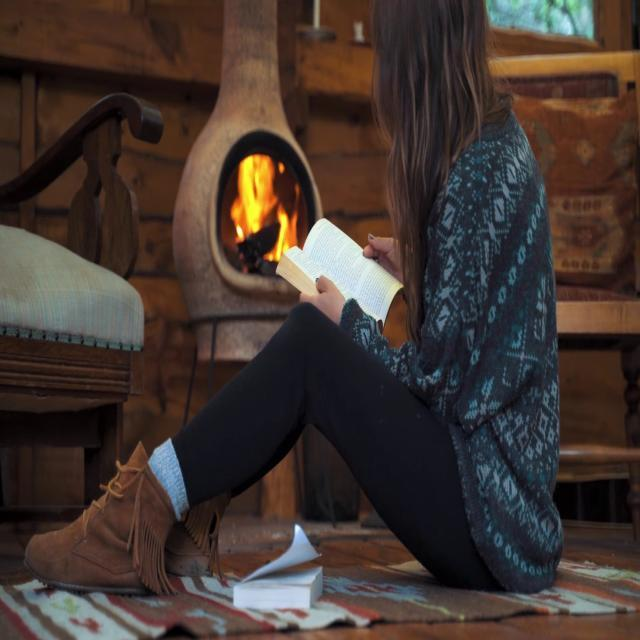Fire: (230, 153, 301, 270)
